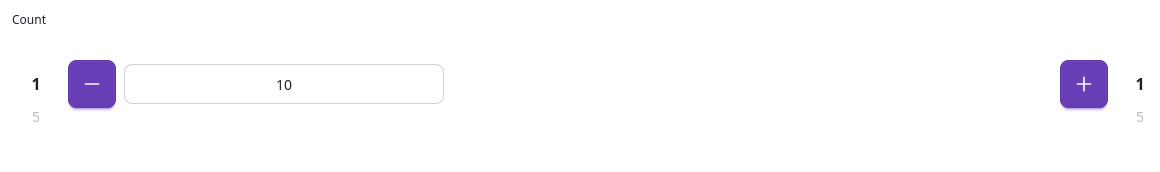
it: NumberStepper › increments value when increment button is clicked
Click the button named "Increment by 1": (1084, 84) [1060, 60, 1108, 108]
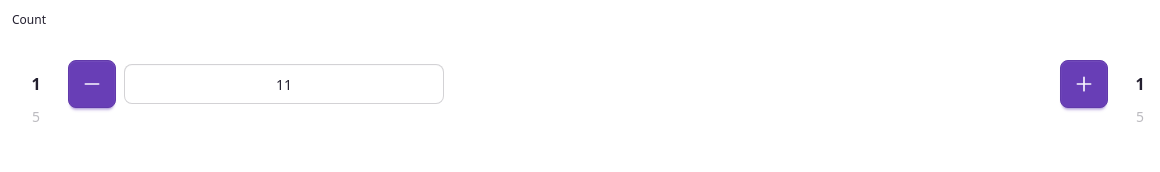
expect the number field holds "11": met, box [124, 64, 444, 104]
